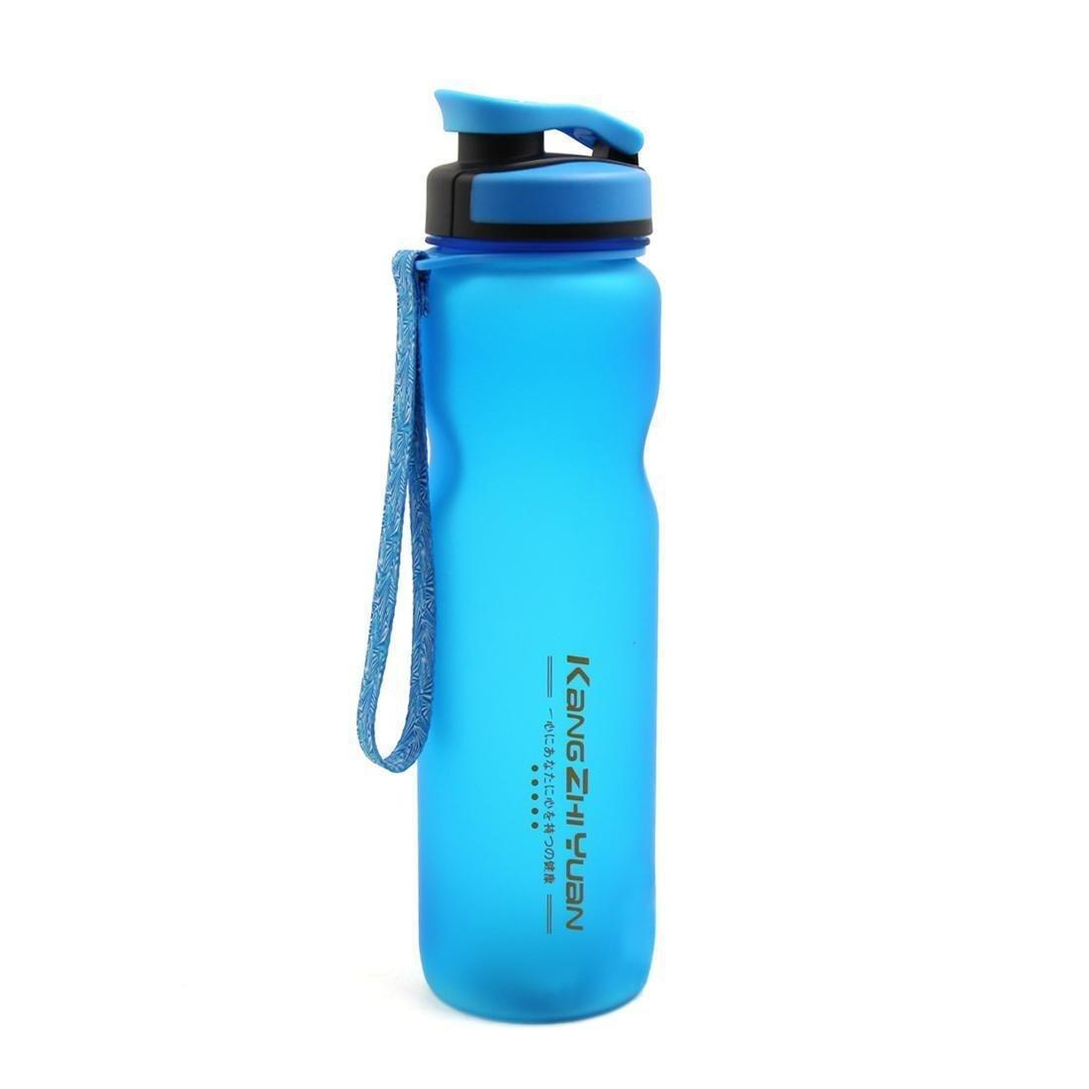gym bottle: (368, 84, 667, 1027)
